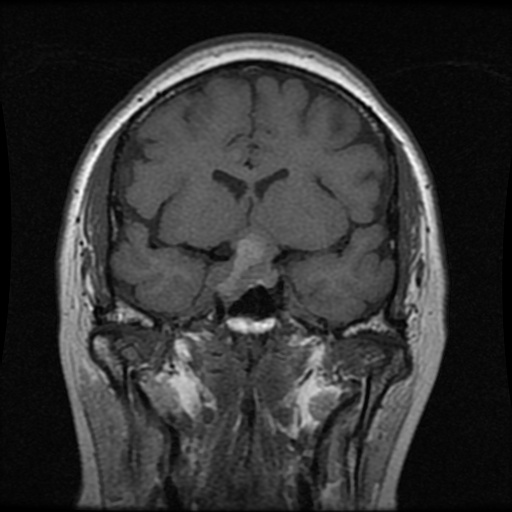pituitary: (207, 234, 278, 300)
